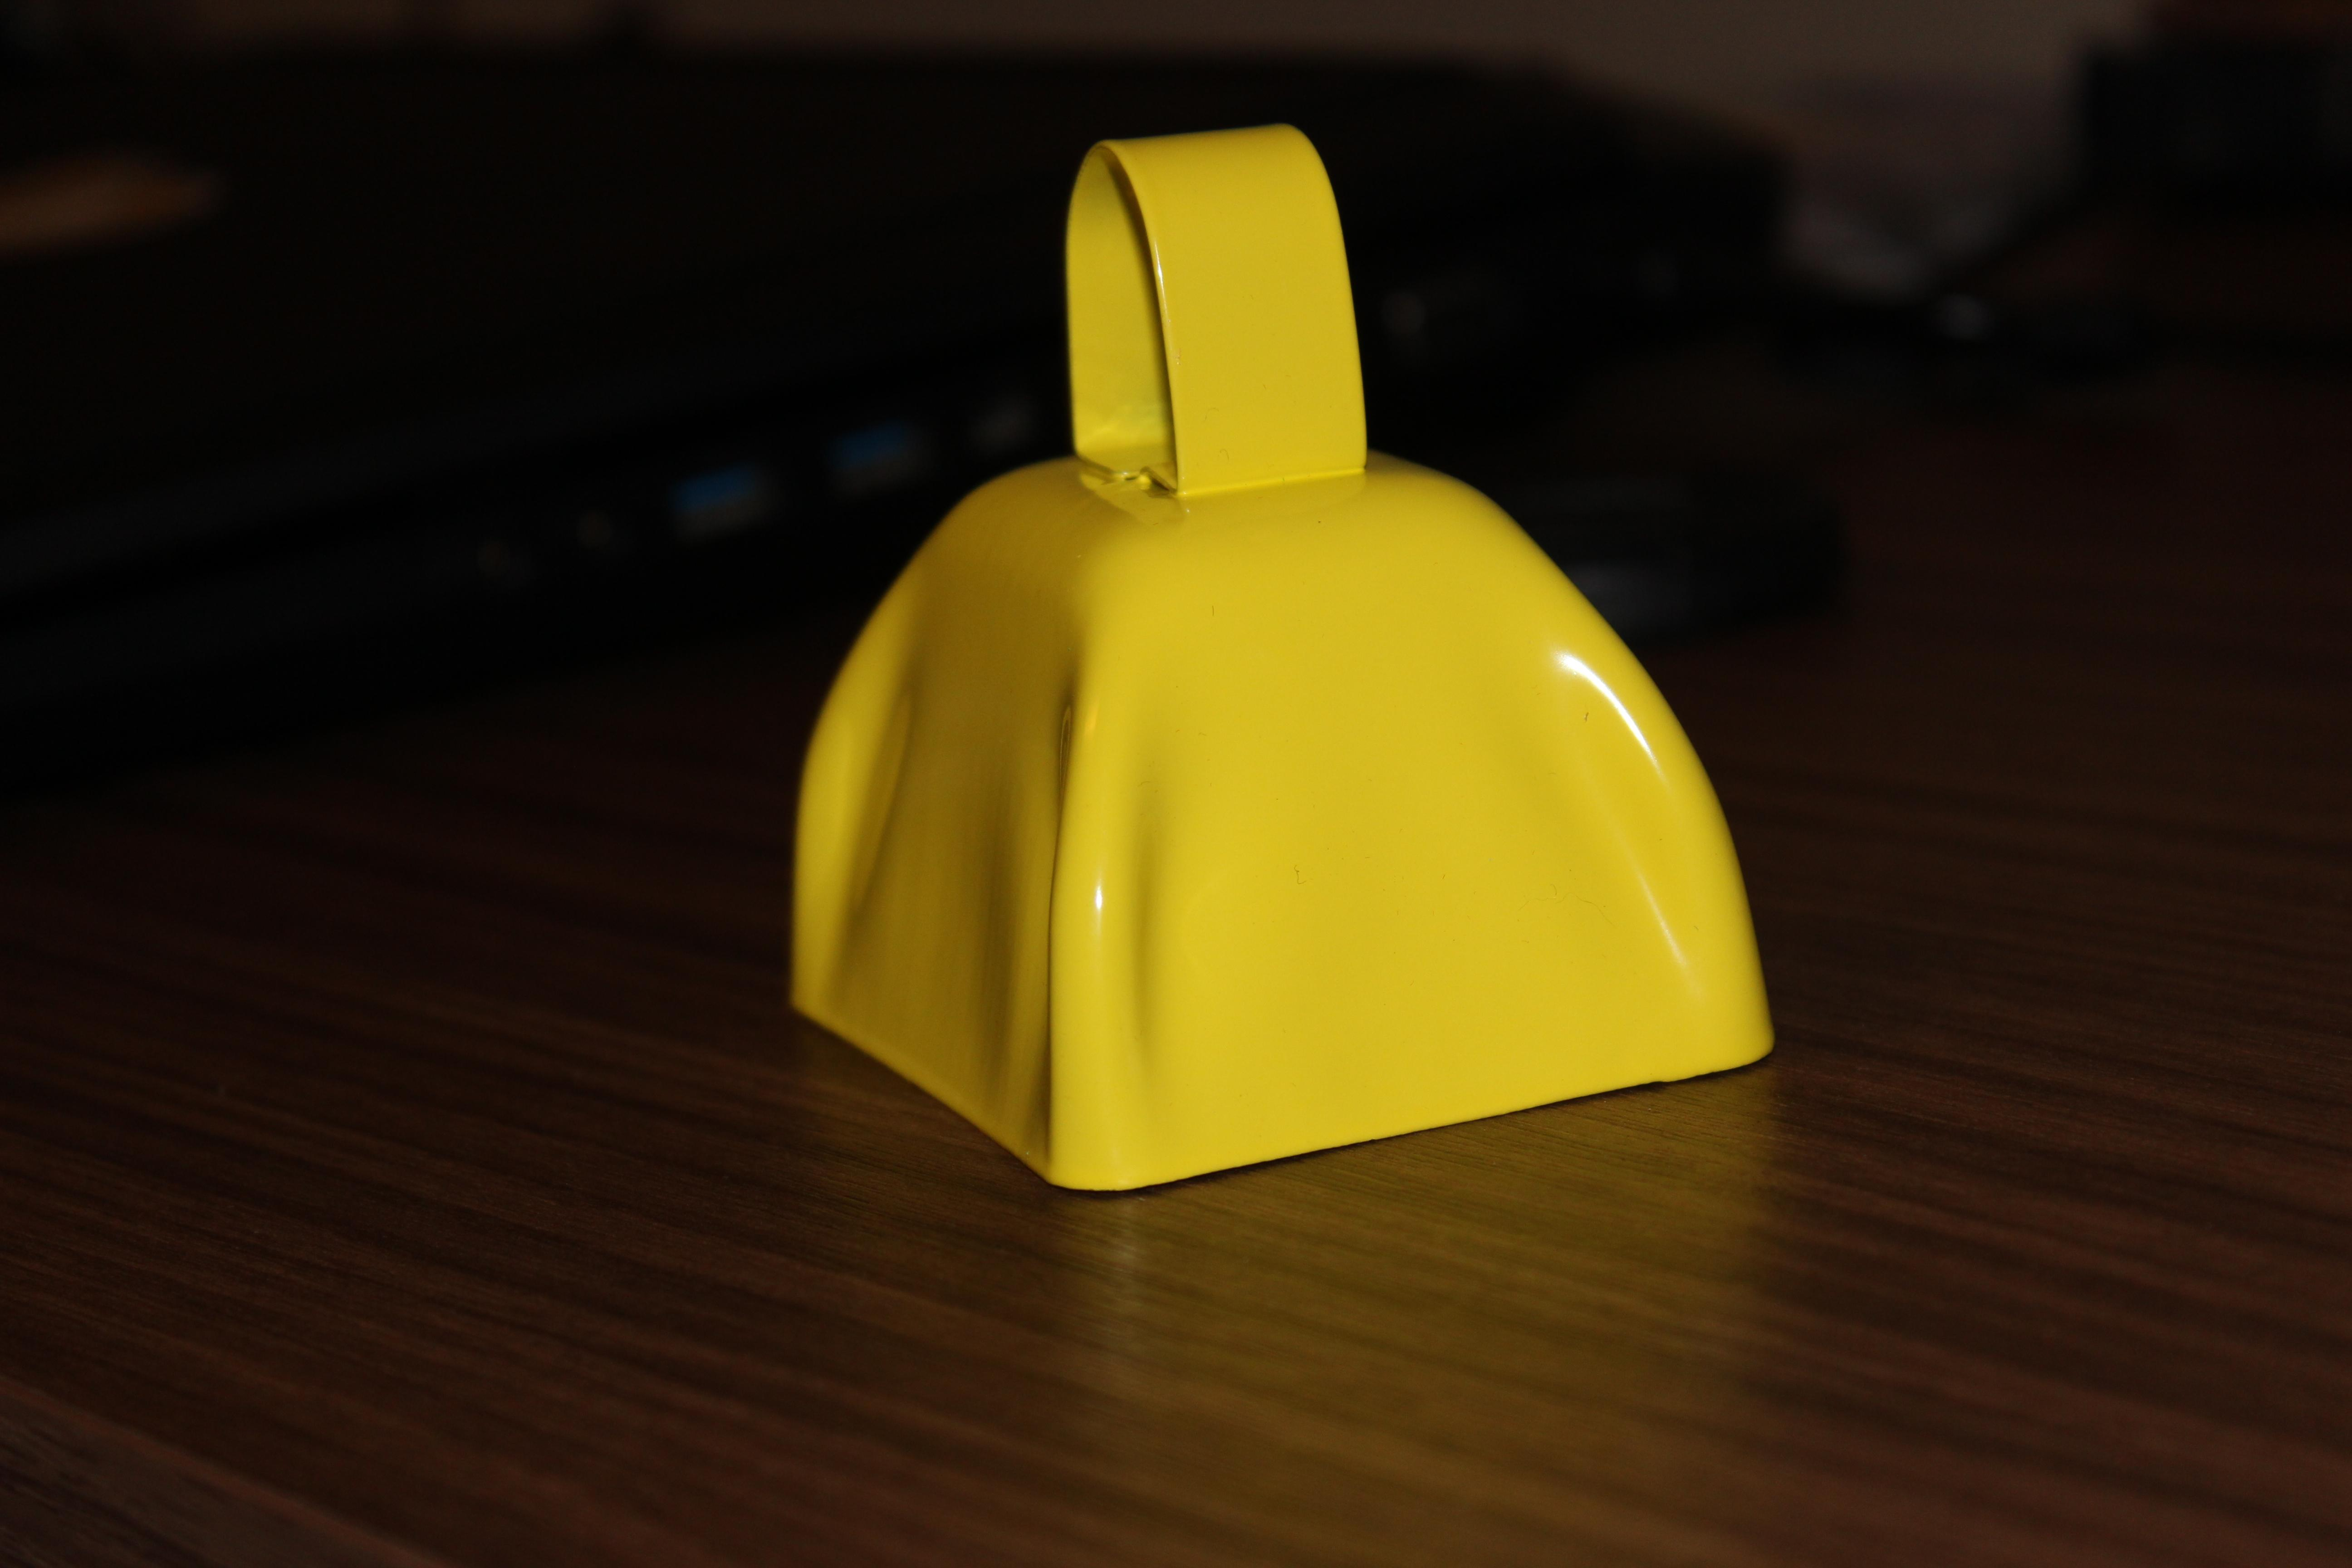cowbell: (742, 87, 1803, 1225)
